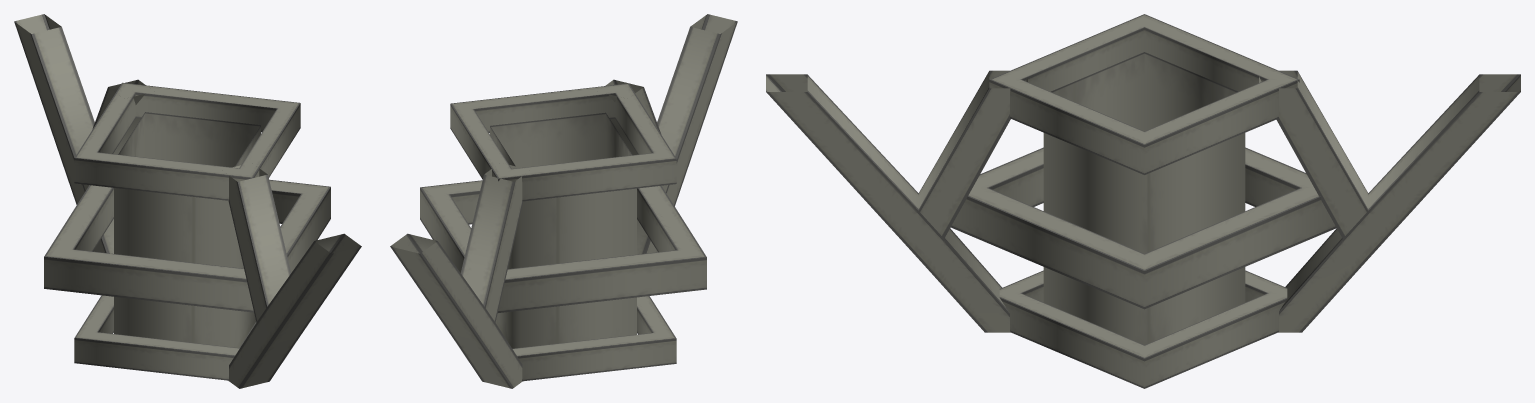
The model's file is Coast Metal Beam Holder.fbx.
The picture shows the model from 3 angles, left to right: view 1: azimuth 30°, elevation 25°; view 2: azimuth 150°, elevation 25°; view 3: azimuth 270°, elevation 25°; orthographic projection. The views are drawn at different scales.
Parts seen in each view (by area): view 1: Metal Beam Holder; view 2: Metal Beam Holder; view 3: Metal Beam Holder.
Part boxes in pixels (box(x1,y1,x2,y2)): Metal Beam Holder: box(14, 14, 361, 388); Metal Beam Holder: box(390, 14, 737, 388); Metal Beam Holder: box(766, 14, 1520, 388).
Bounding box in the file's own units: 478 × 328 × 916.
